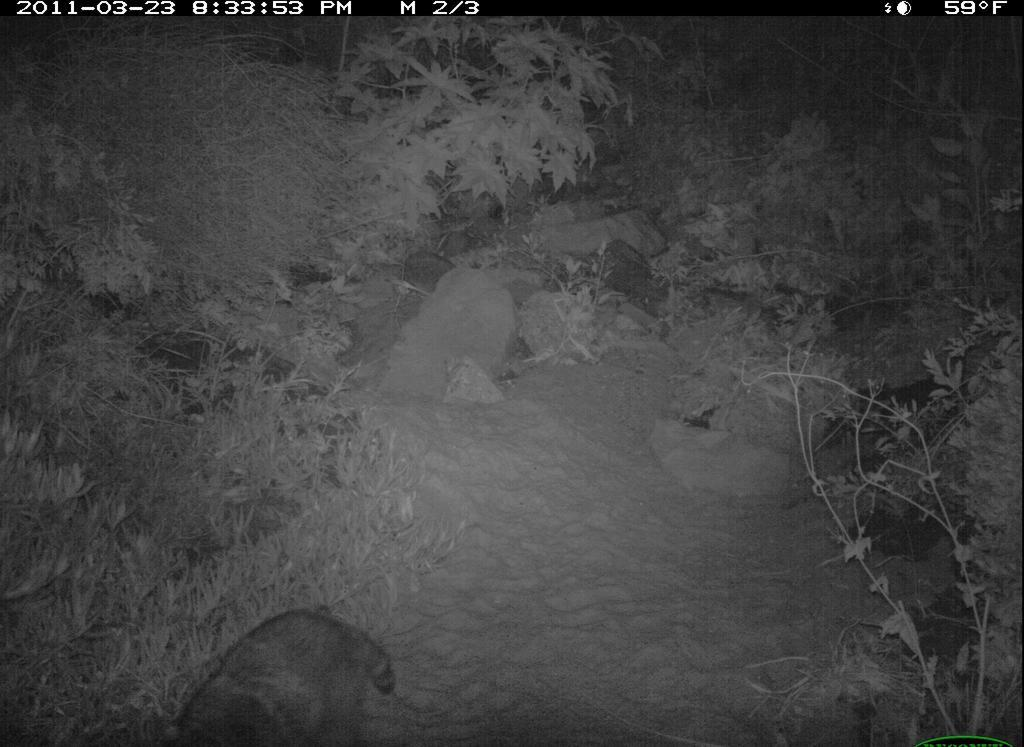raccoon: (167, 605, 402, 747)
